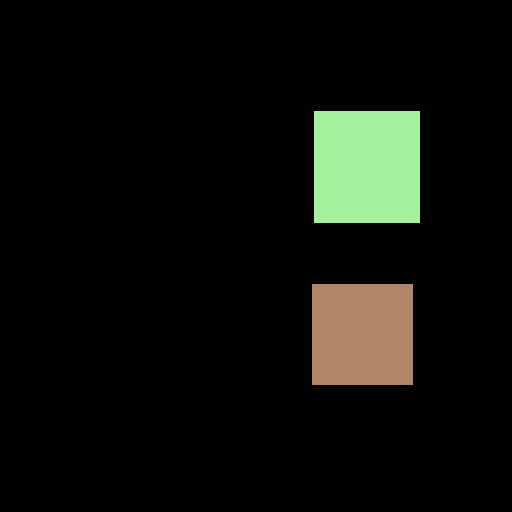square: (314, 111, 419, 222), (312, 284, 412, 384)
